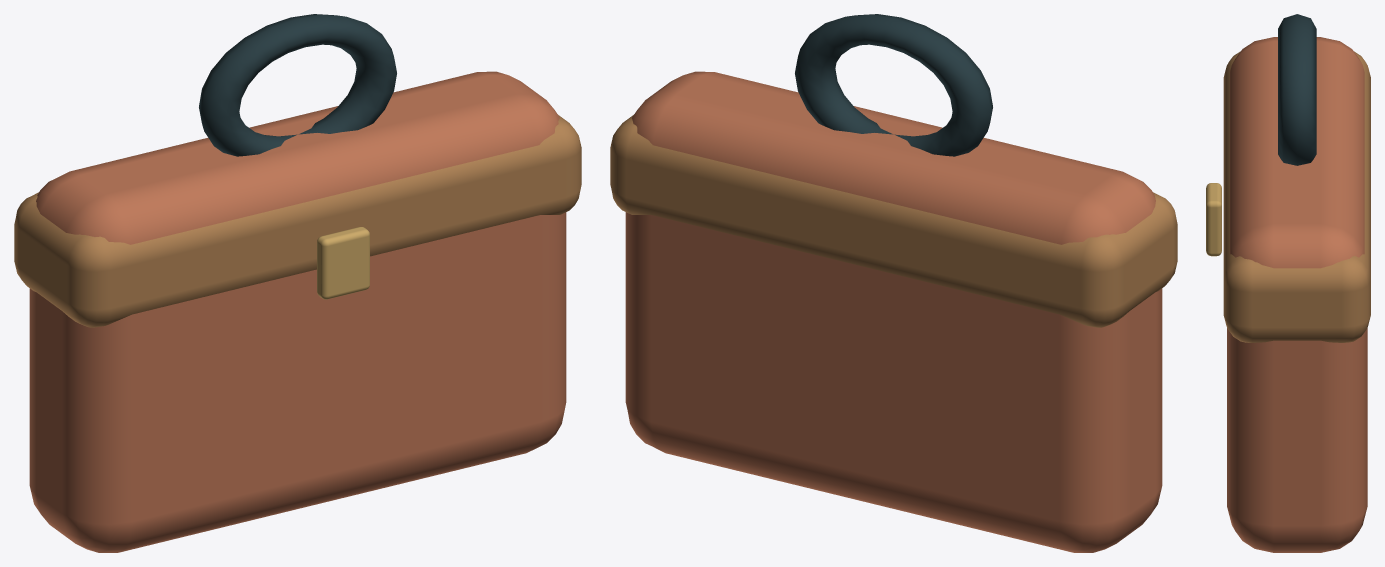
Rendered from briefcase.glb.
3 views of the same model, side by side, from view 1: azimuth 30°, elevation 25°; view 2: azimuth 150°, elevation 25°; view 3: azimuth 270°, elevation 25° (orthographic). The views are drawn at different scales.
Visible parts, largest first — view 1: leather-case, flap, handle, clasp; view 2: leather-case, flap, handle; view 3: leather-case, flap, handle, clasp.
Boxes of the visible parts, x1,y1,x2,y2 form: leather-case: [29, 71, 566, 552]; flap: [14, 115, 581, 327]; handle: [199, 14, 396, 156]; clasp: [317, 227, 369, 299]; leather-case: [625, 71, 1162, 552]; flap: [610, 115, 1177, 327]; handle: [795, 14, 992, 156]; leather-case: [1227, 37, 1367, 552]; flap: [1223, 51, 1370, 342]; handle: [1278, 14, 1316, 165]; clasp: [1206, 183, 1221, 256].
Bounding box in the file's own units: 0.84 × 0.742 × 0.2575.
